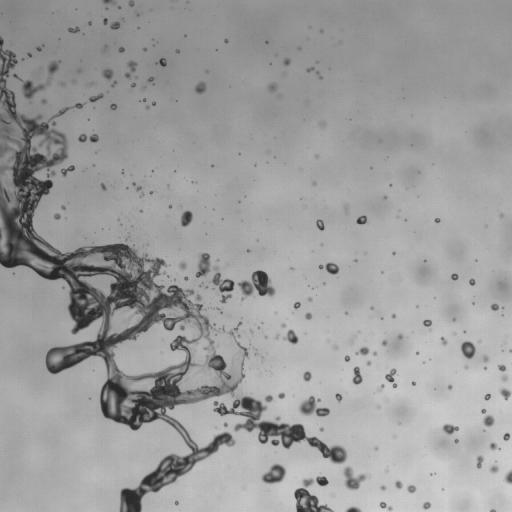droplet: (13, 61, 59, 99), (294, 476, 333, 511), (238, 270, 275, 300), (298, 396, 329, 417), (343, 466, 368, 489), (261, 464, 286, 484), (460, 341, 475, 358), (319, 262, 339, 274), (283, 329, 298, 344), (385, 368, 396, 387), (180, 210, 192, 226), (352, 366, 362, 384), (442, 424, 458, 434), (483, 415, 494, 427), (102, 69, 113, 80), (500, 388, 511, 399), (356, 346, 369, 355), (195, 82, 205, 93), (356, 215, 366, 224), (316, 219, 324, 230), (476, 456, 483, 468), (489, 464, 498, 473), (110, 21, 120, 29), (303, 371, 311, 381), (489, 442, 499, 450), (157, 58, 166, 66), (268, 83, 276, 92), (68, 26, 79, 32), (423, 319, 431, 327), (407, 485, 415, 493), (490, 303, 499, 310), (440, 336, 447, 345), (395, 480, 402, 489), (178, 262, 186, 269), (498, 364, 506, 371), (265, 395, 273, 402), (503, 433, 511, 440), (422, 502, 430, 509), (283, 58, 290, 65), (451, 273, 458, 280), (293, 302, 300, 309), (335, 393, 341, 401), (469, 278, 475, 285), (305, 312, 311, 319), (501, 374, 507, 381), (378, 384, 384, 391), (278, 392, 285, 398), (54, 213, 60, 219), (484, 394, 490, 400), (101, 183, 106, 190), (483, 355, 488, 362), (129, 0, 134, 6), (118, 47, 124, 52), (307, 67, 313, 72), (110, 104, 116, 109), (135, 186, 141, 191), (344, 355, 349, 361), (148, 77, 153, 82), (111, 81, 116, 86), (397, 334, 402, 339), (382, 340, 387, 345), (366, 360, 371, 365), (380, 485, 385, 490), (103, 18, 107, 24), (319, 122, 325, 126), (344, 205, 348, 211), (103, 45, 107, 50), (37, 46, 41, 51), (130, 83, 135, 87), (41, 99, 46, 103), (435, 218, 440, 222), (224, 39, 228, 43), (140, 193, 144, 197), (61, 205, 65, 209), (199, 283, 203, 287), (308, 297, 312, 301), (391, 314, 395, 318), (281, 323, 285, 327), (333, 345, 337, 349), (373, 351, 377, 355), (448, 385, 452, 389), (481, 409, 485, 413), (454, 439, 458, 443), (374, 446, 378, 450), (412, 381, 415, 385), (320, 427, 323, 431), (143, 48, 146, 51), (28, 53, 31, 56), (61, 82, 64, 85), (146, 106, 149, 109), (312, 182, 315, 185), (500, 214, 503, 217), (125, 237, 128, 240), (184, 277, 187, 280), (218, 309, 221, 312), (250, 330, 253, 333), (275, 335, 278, 338), (224, 423, 227, 426), (175, 501, 178, 504), (464, 366, 468, 368), (88, 22, 91, 24), (176, 50, 179, 52), (152, 102, 155, 104), (315, 155, 318, 157), (150, 191, 152, 194), (169, 205, 171, 208), (247, 249, 249, 252), (392, 252, 395, 254), (452, 318, 455, 320), (350, 340, 352, 343), (118, 6, 120, 8), (320, 30, 322, 32), (317, 73, 319, 75), (90, 83, 92, 85), (143, 86, 145, 88), (354, 259, 356, 261), (291, 267, 293, 269), (371, 307, 373, 309), (345, 312, 347, 314), (478, 340, 480, 342), (416, 352, 418, 354), (484, 367, 486, 369)
ligament: (0, 37, 345, 511), (195, 253, 234, 303), (125, 61, 137, 78), (78, 133, 98, 142), (61, 165, 74, 176), (379, 501, 392, 511), (89, 93, 103, 102), (503, 469, 511, 484), (345, 506, 361, 511), (102, 0, 115, 4), (489, 509, 495, 511), (510, 349, 511, 352)
